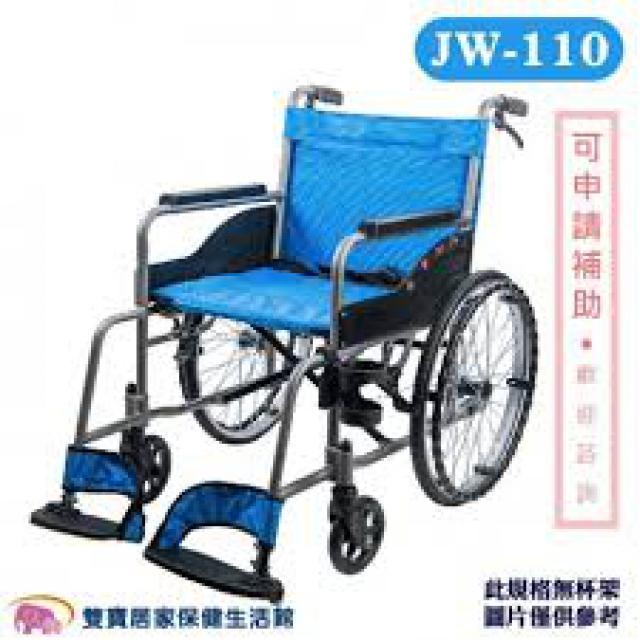wheelchair: (25, 71, 538, 620)
